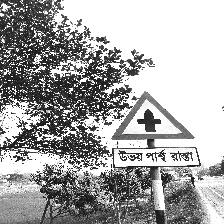Crossroad: (111, 92, 200, 168)
